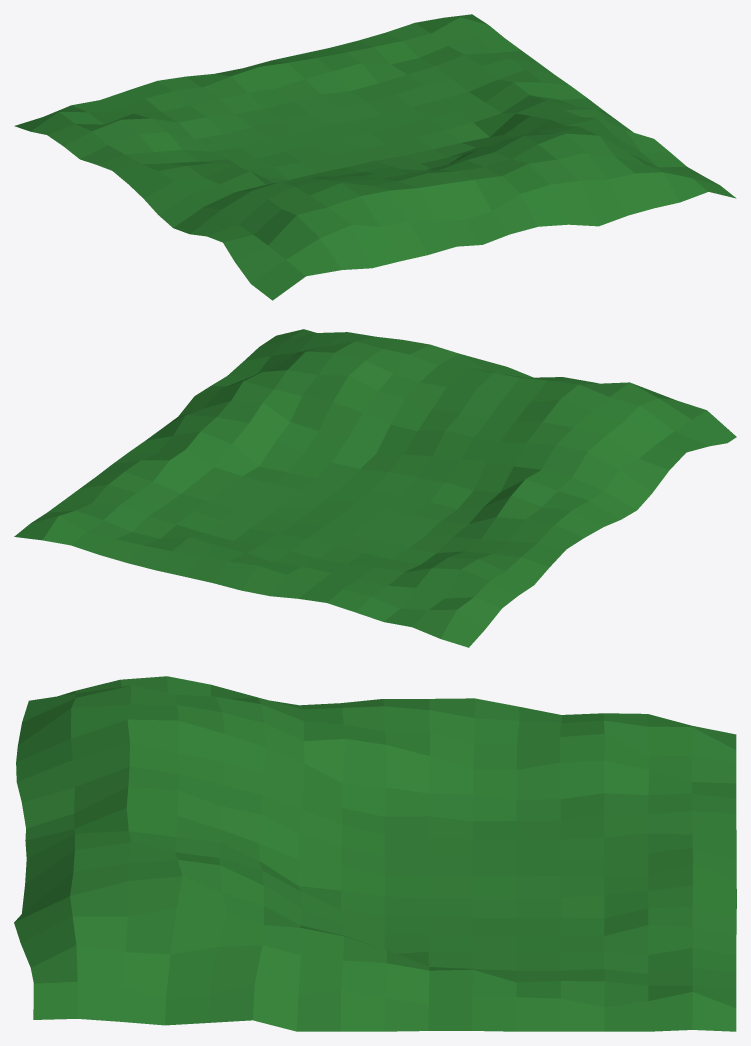
File: Ground.fbx
The picture shows the model from 3 angles, top to bottom: view 1: azimuth 30°, elevation 25°; view 2: azimuth 150°, elevation 25°; view 3: azimuth 270°, elevation 25°; orthographic projection. The views are drawn at different scales.
Parts seen in each view (by area): view 1: Plane; view 2: Plane; view 3: Plane.
Part boxes in pixels (left/top/right/bottom): Plane: left=14, top=14, right=736, bottom=300; Plane: left=14, top=329, right=736, bottom=647; Plane: left=14, top=676, right=736, bottom=1031.
Bounding box in the file's own units: 1644 × 230 × 1645.
